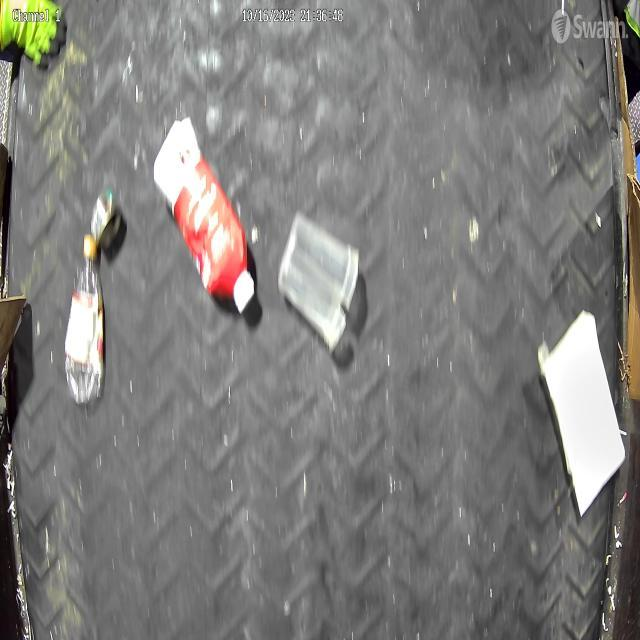can: (90, 189, 122, 249)
plastic_bottle: (64, 234, 104, 407)
